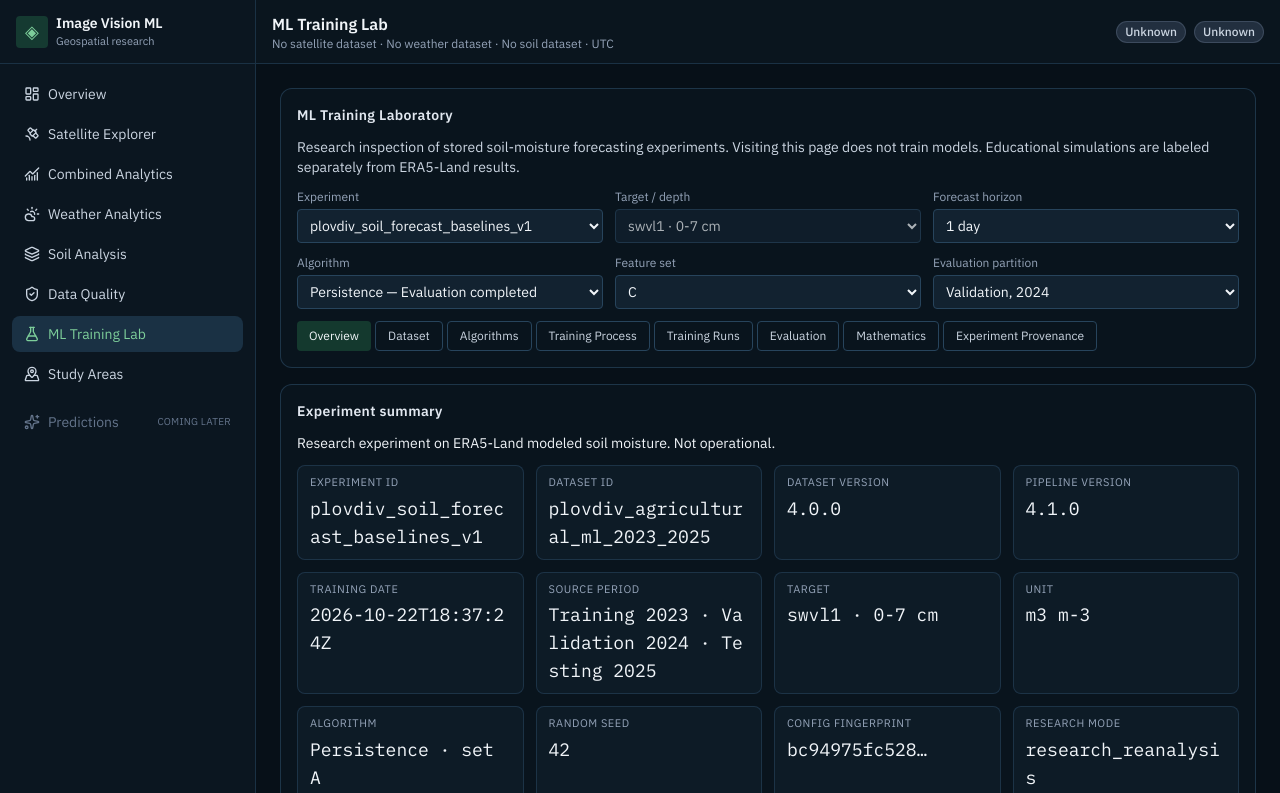
Test: ML Training Laboratory › explains Ridge without describing gradient-descent epochs
Select "Ridge regression — Evaluation completed · training history unavailable" in the dropdown labelled "Algorithm" at (450,292), box 297,275 -> 603,309
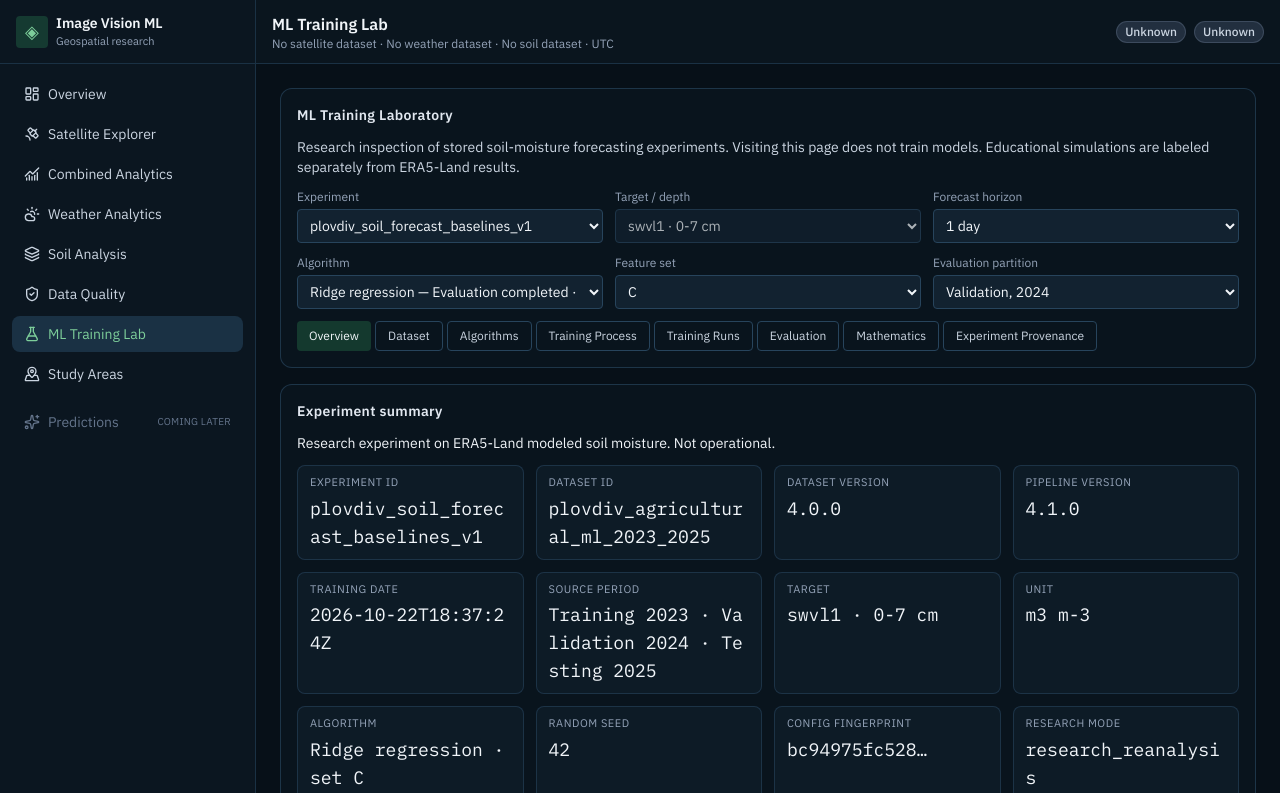
Click the tab "Algorithms" at (489,336), box 447,321 -> 532,351
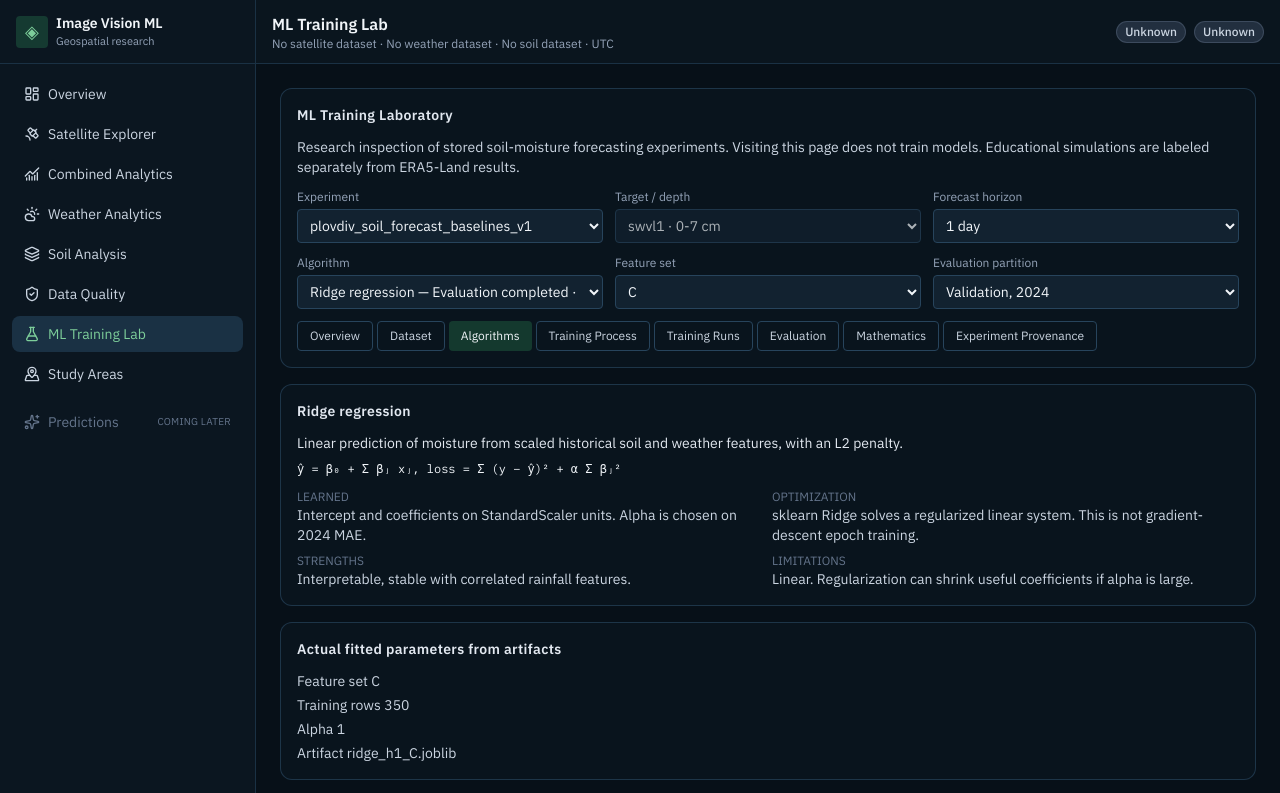
Expected: the text "not gradient-descent epoch training" is shown, 772,506 -> 1203,544
Select "Histogram gradient boosting — Evaluation completed · training history unavailabl" in the dropdown labelled "Algorithm" at (450,292), box 297,275 -> 603,309
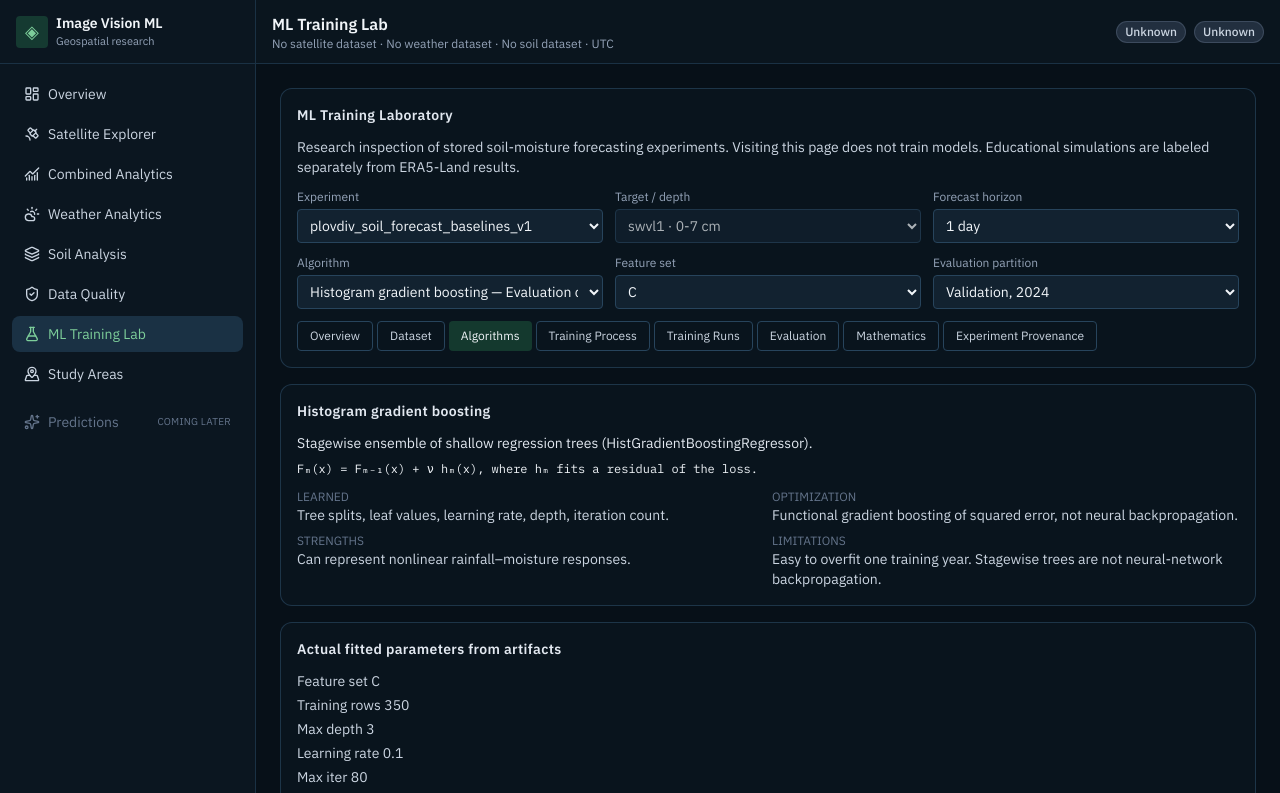
Expected: the text "not neural backpropagation" is shown, 772,506 -> 1238,524
